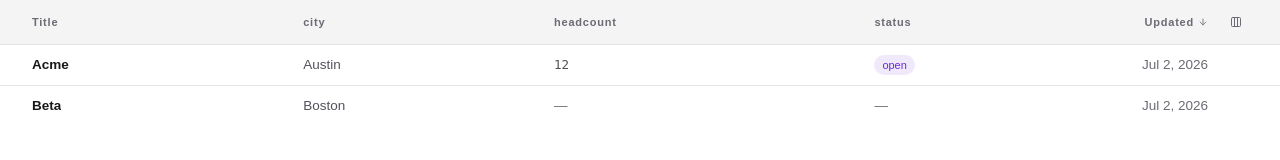
Test: TableLayout › paints the new value optimistically and keeps it when the write lands
This screenshot has width=1280, height=160.
Click the button with aria-label "Edit " at (413, 65), box [303,51,522,79]
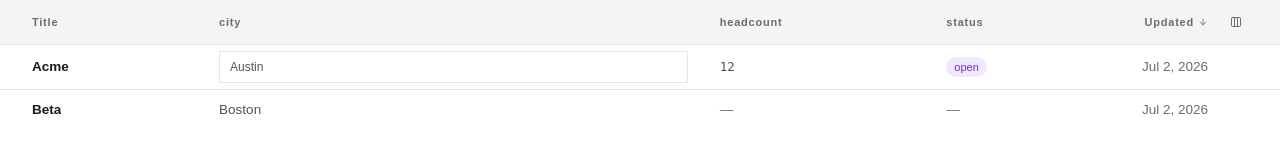
Replace the text in the field showing "Austin" with "Boulder" at (453, 67), box [219,51,688,83]
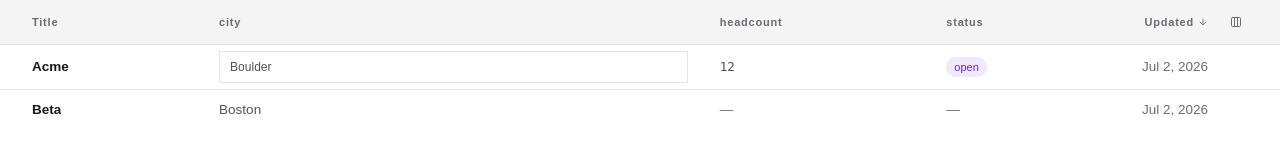
Press Enter in the field showing "Austin", box [219,51,688,83]
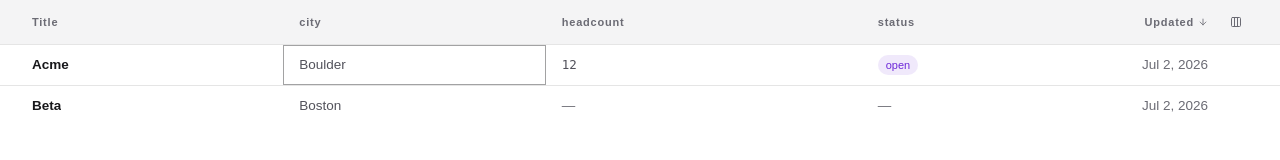
expect the element named "city of Acme" reads "Boulder": met, box [299,51,530,79]
